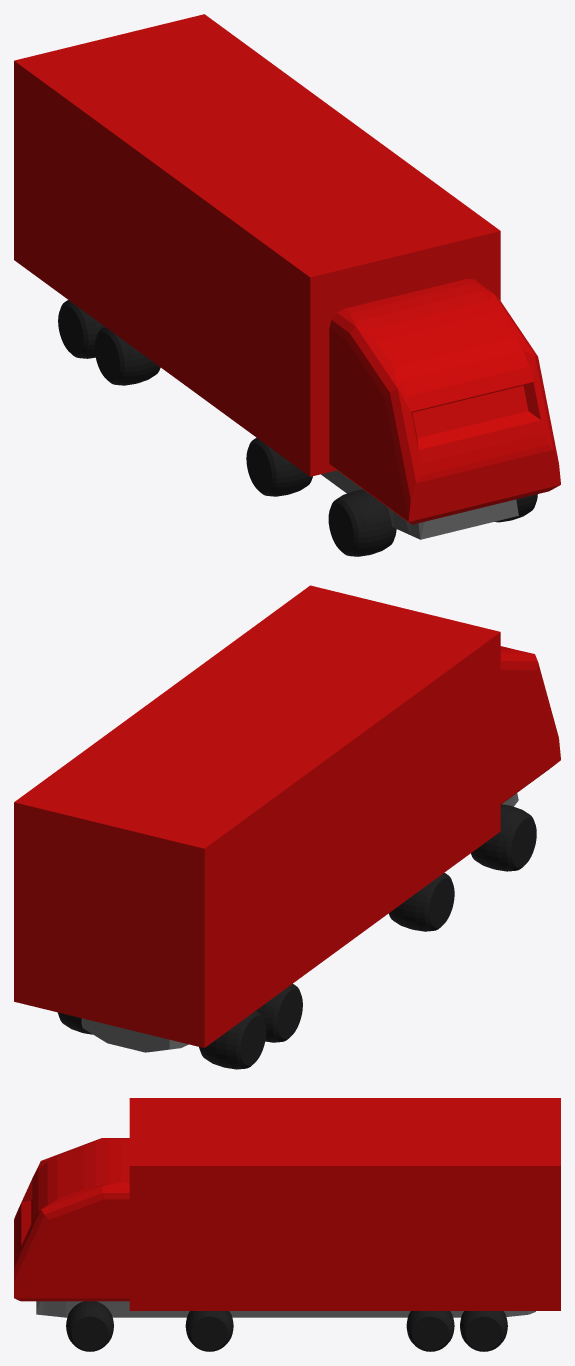
File: Camion.obj
3 renders of one model, top to bottom at view 1: azimuth 30°, elevation 25°; view 2: azimuth 150°, elevation 25°; view 3: azimuth 270°, elevation 25°, orthographic. The views are drawn at different scales.
Parts seen in each view (by area): view 1: Coffre+Cabine, RoueD1, Chassis, RoueD2, RoueD3, RoueD4; view 2: Coffre+Cabine, RoueD1, RoueD4, RoueD2, RoueD3, Chassis; view 3: Coffre+Cabine, Chassis, RoueG1, RoueG2, RoueG3, RoueG4.
Part boxes in pixels (x1,y1,x2,y2): Coffre+Cabine: (14, 14, 560, 524); RoueD1: (328, 489, 396, 556); Chassis: (321, 470, 518, 539); RoueD2: (246, 437, 312, 496); RoueD3: (94, 327, 160, 385); RoueD4: (58, 300, 104, 358); Coffre+Cabine: (14, 585, 560, 1047); RoueD1: (471, 804, 536, 871); RoueD4: (199, 1010, 266, 1069); RoueD2: (388, 873, 454, 931); RoueD3: (256, 984, 302, 1042); Chassis: (81, 793, 518, 1052); Coffre+Cabine: (14, 1098, 560, 1310); Chassis: (36, 1301, 535, 1317); RoueG1: (66, 1301, 113, 1351); RoueG2: (185, 1311, 233, 1351); RoueG3: (406, 1311, 454, 1351); RoueG4: (460, 1311, 507, 1351).
Bounding box in the file's own units: 2 × 2.62 × 6.83.
